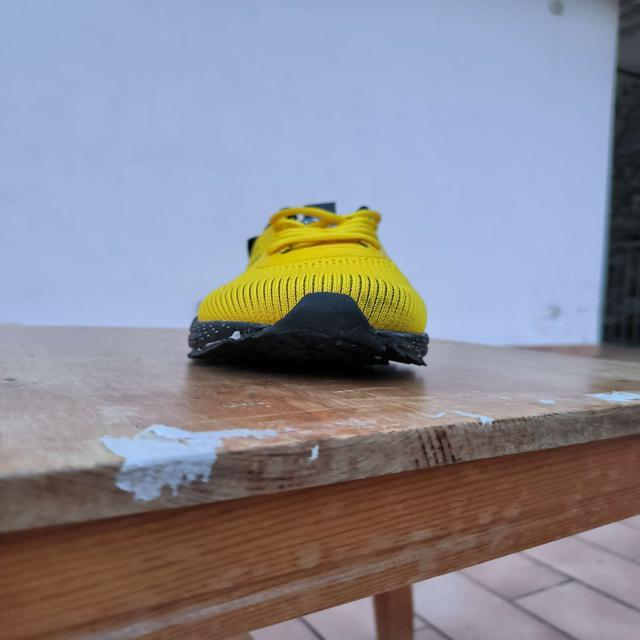shoe: (185, 201, 429, 366)
